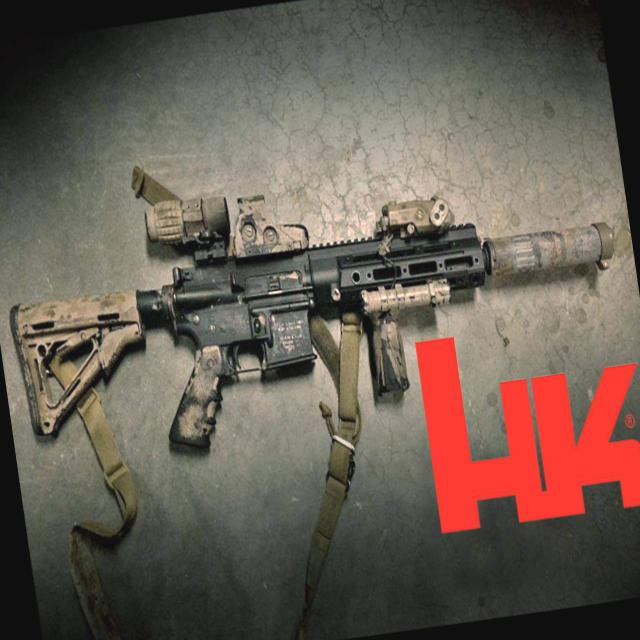long weapon: (0, 147, 638, 453)
